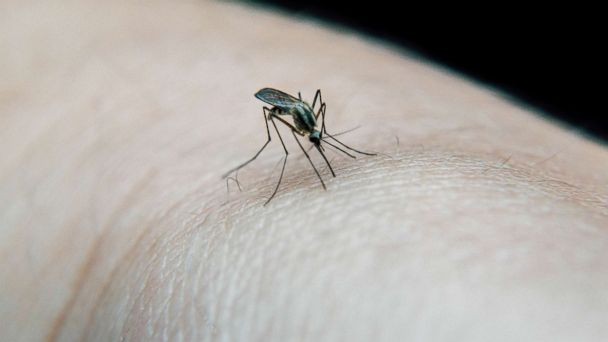dengue_mosquito: (238, 87, 356, 202)
